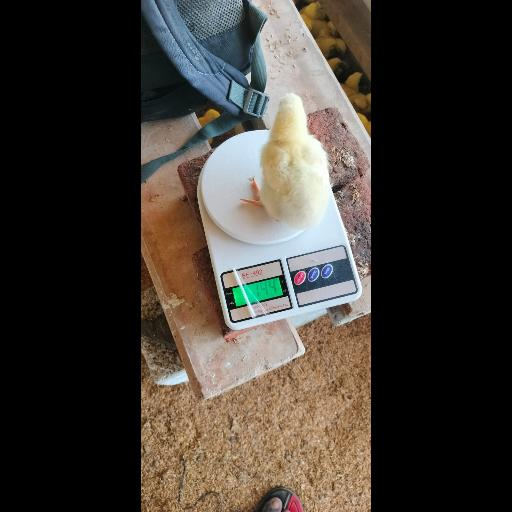chick: (240, 92, 330, 230)
